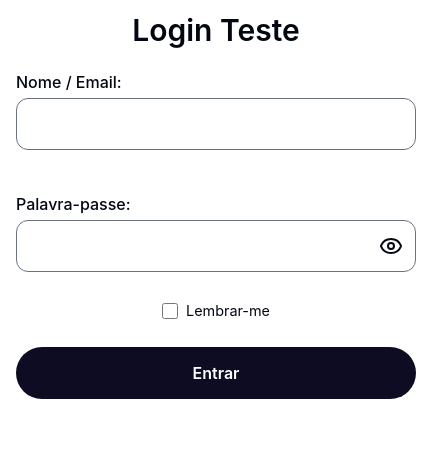
LoginForm › shows error message on failed login
This screenshot has width=433, height=452.
Type "errado" into the field labelled "Nome / Email:" at [216, 124], box [16,98,416,150]
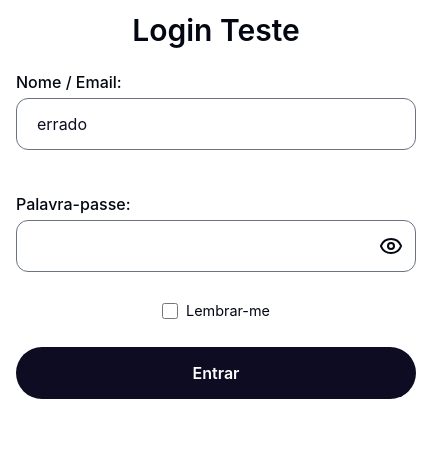
Type "errado" into the password field labelled "Palavra-passe:" at [216, 246], box [16,220,416,272]
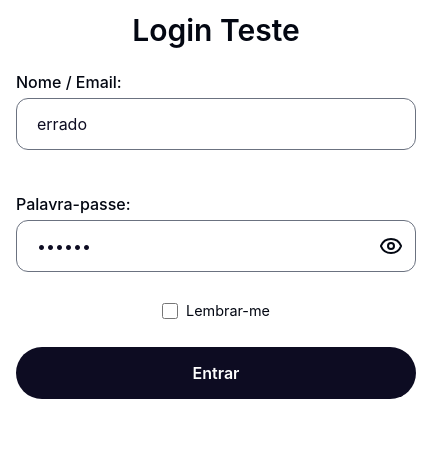
Click the button "Entrar" at [216, 373], box [16,347,416,399]
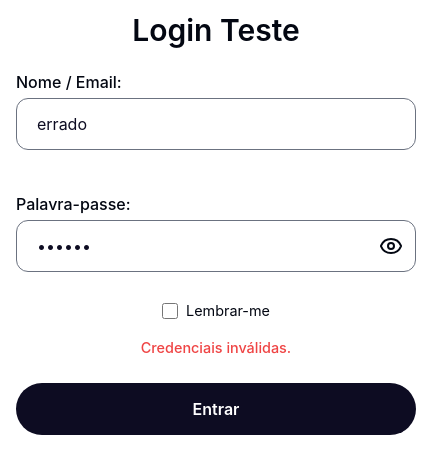
Now the text "Credenciais inválidas." is shown, box [141,337,291,358]
